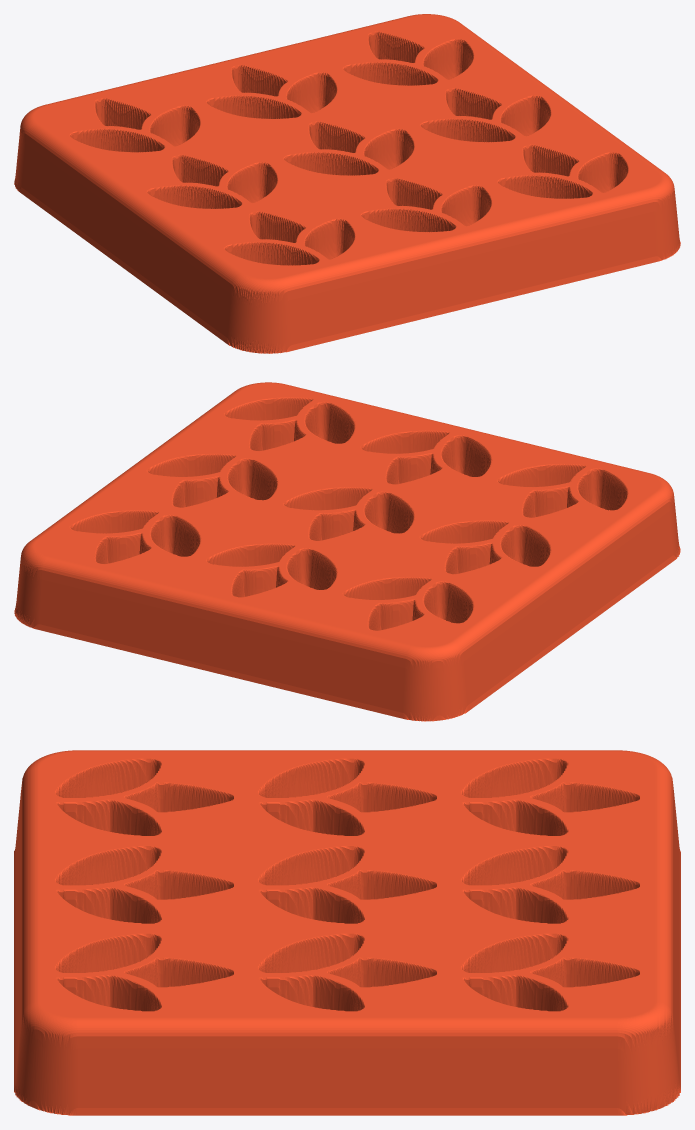
The model's file is mold.glb.
The picture shows the model from 3 angles, top to bottom: view 1: azimuth 30°, elevation 25°; view 2: azimuth 150°, elevation 25°; view 3: azimuth 270°, elevation 25°; orthographic projection. The views are drawn at different scales.
Parts seen in each view (by area): view 1: geometry_0; view 2: geometry_0; view 3: geometry_0.
Boxes of the visible parts, x1=… form: geometry_0: x1=14, y1=14, x2=680, y2=353; geometry_0: x1=14, y1=382, x2=680, y2=721; geometry_0: x1=14, y1=750, x2=680, y2=1115.
Bounding box in the file's own units: 0.0964 × 0.0136 × 0.0946.
